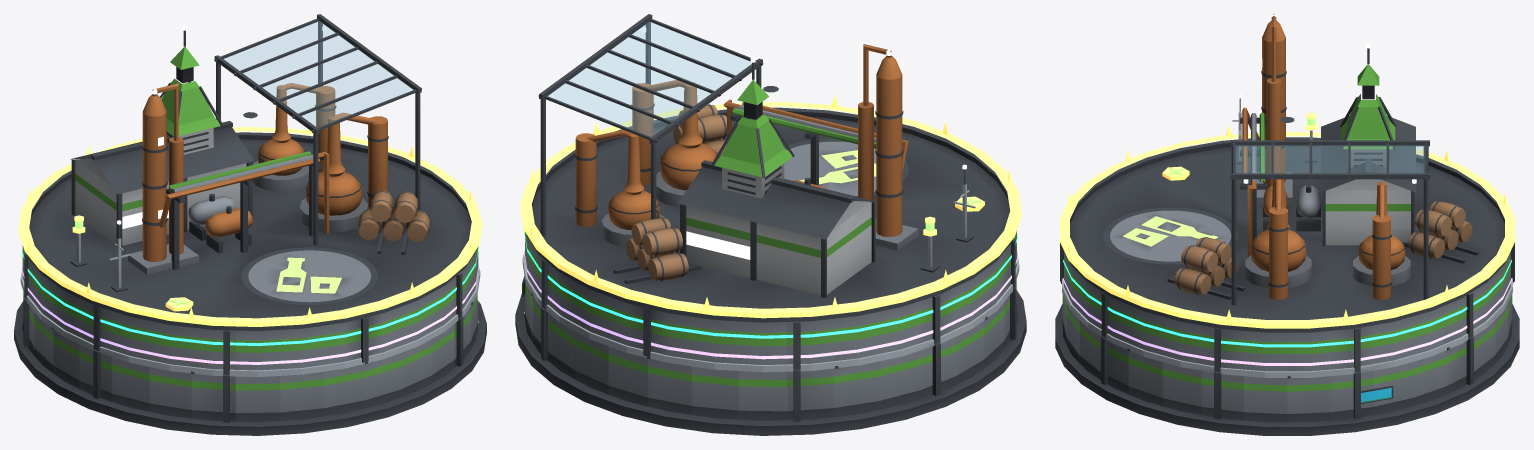
The model's file is distillery_s.glb.
3 views of the same model, side by side, from view 1: azimuth 30°, elevation 25°; view 2: azimuth 150°, elevation 25°; view 3: azimuth 270°, elevation 25° (orthographic). The views are drawn at different scales.
Parts seen in each view (by area): view 1: Roof, Base, Wall_21, Wall_20, Wall_22, Wall_19, Wall_23, Wall_18, Wall_24, Upper_20, Upper_21, Upper_23 (+24 smaller); view 2: Roof, Base, Wall_11, Wall_10, Wall_09, Wall_12, Wall_08, Wall_13, Wall_07, Upper_11, Upper_08, Upper_10 (+27 smaller); view 3: Roof, Base, Wall_00, Wall_31, Wall_30, Wall_29, Wall_01, Wall_28, Wall_03, Wall_02, Upper_00, Upper_01 (+23 smaller).
Boxes of the visible parts, left/top/right/bottom form: Roof: left=26, top=14, right=476, bottom=330; Base: left=14, top=300, right=486, bottom=435; Wall_21: left=235, top=376, right=280, bottom=421; Wall_20: left=191, top=371, right=235, bottom=422; Wall_22: left=280, top=371, right=323, bottom=420; Wall_19: left=149, top=367, right=191, bottom=418; Wall_23: left=323, top=364, right=364, bottom=416; Wall_18: left=111, top=357, right=149, bottom=411; Wall_24: left=364, top=353, right=400, bottom=408; Upper_20: left=191, top=327, right=235, bottom=374; Upper_21: left=235, top=330, right=279, bottom=370; Upper_23: left=323, top=318, right=365, bottom=364; Roof: left=526, top=14, right=1013, bottom=322; Base: left=515, top=290, right=1026, bottom=435; Wall_11: left=787, top=368, right=834, bottom=421; Wall_10: left=738, top=371, right=786, bottom=420; Wall_09: left=691, top=366, right=738, bottom=419; Wall_12: left=834, top=361, right=879, bottom=416; Wall_08: left=647, top=356, right=691, bottom=414; Wall_13: left=880, top=350, right=920, bottom=409; Wall_07: left=608, top=346, right=647, bottom=406; Upper_11: left=787, top=318, right=834, bottom=369; Upper_08: left=646, top=308, right=692, bottom=358; Upper_10: left=739, top=321, right=786, bottom=364; Roof: left=1069, top=14, right=1505, bottom=332; Base: left=1055, top=304, right=1519, bottom=435; Wall_00: left=1287, top=376, right=1331, bottom=422; Wall_31: left=1243, top=376, right=1287, bottom=422; Wall_30: left=1201, top=370, right=1243, bottom=420; Wall_29: left=1162, top=362, right=1201, bottom=414; Wall_01: left=1331, top=370, right=1373, bottom=420; Wall_28: left=1127, top=348, right=1162, bottom=406; Wall_03: left=1412, top=350, right=1446, bottom=406; Wall_02: left=1373, top=362, right=1412, bottom=414; Upper_00: left=1287, top=331, right=1330, bottom=371; Upper_01: left=1331, top=325, right=1372, bottom=372.
Size of the model in its own units: 11.74 by 7.89 by 11.74.
